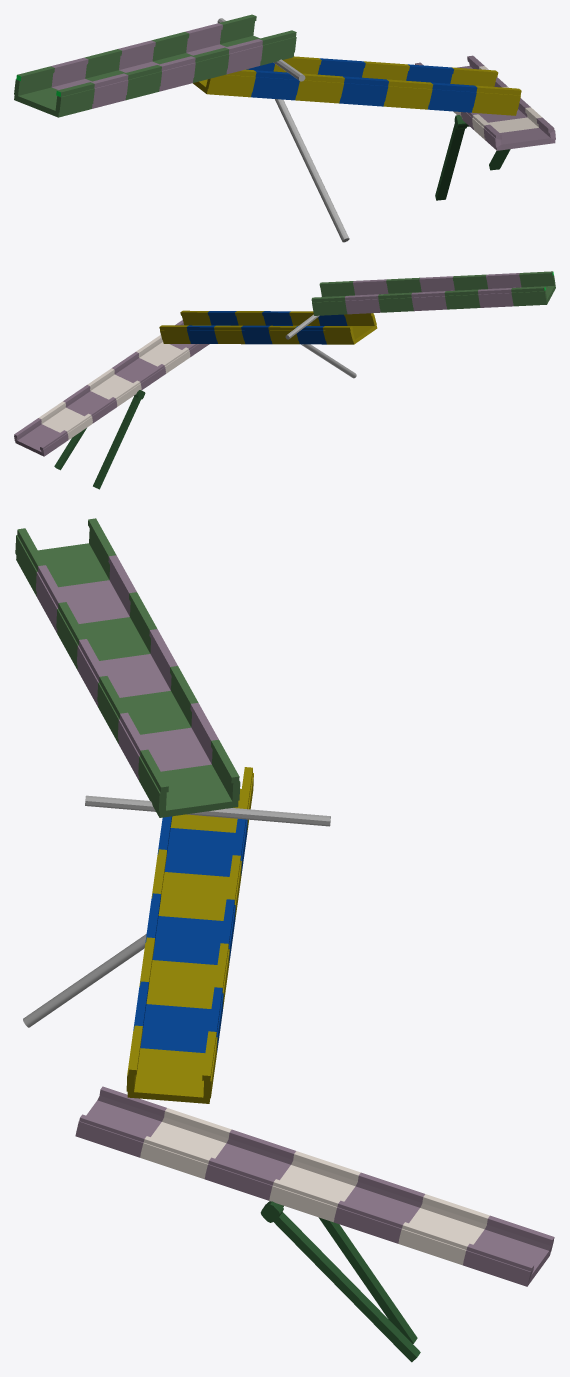
The model's file is br_plastic_chute.fbx.
3 views of the same model, one above another, from view 1: azimuth 30°, elevation 25°; view 2: azimuth 150°, elevation 25°; view 3: azimuth 270°, elevation 25° (orthographic). The views are drawn at different scales.
Visible parts, largest first — view 1: polySurface1287, polySurface1288, polySurface1290, pCube316, pCube315; view 2: polySurface1287, polySurface1290, polySurface1288, pCube316, pCube315; view 3: polySurface1287, polySurface1290, polySurface1288, pCube316, polySurface1289, pCube315.
Part boxes in pixels (bbox=[...]): polySurface1287: bbox=[14, 14, 296, 117]; polySurface1288: bbox=[193, 56, 521, 115]; polySurface1290: bbox=[415, 55, 555, 150]; pCube316: bbox=[435, 115, 510, 200]; pCube315: bbox=[275, 99, 349, 242]; polySurface1287: bbox=[311, 271, 555, 315]; polySurface1290: bbox=[14, 320, 209, 456]; polySurface1288: bbox=[159, 310, 377, 344]; pCube316: bbox=[54, 390, 145, 489]; pCube315: bbox=[301, 344, 356, 378]; polySurface1287: bbox=[15, 518, 240, 817]; polySurface1290: bbox=[75, 1086, 554, 1286]; polySurface1288: bbox=[126, 767, 253, 1103]; pCube316: bbox=[260, 1201, 420, 1362]; polySurface1289: bbox=[85, 795, 330, 826]; pCube315: bbox=[23, 934, 146, 1027].
Bounding box in the file's own units: 48.93 × 25.7 × 26.95.
